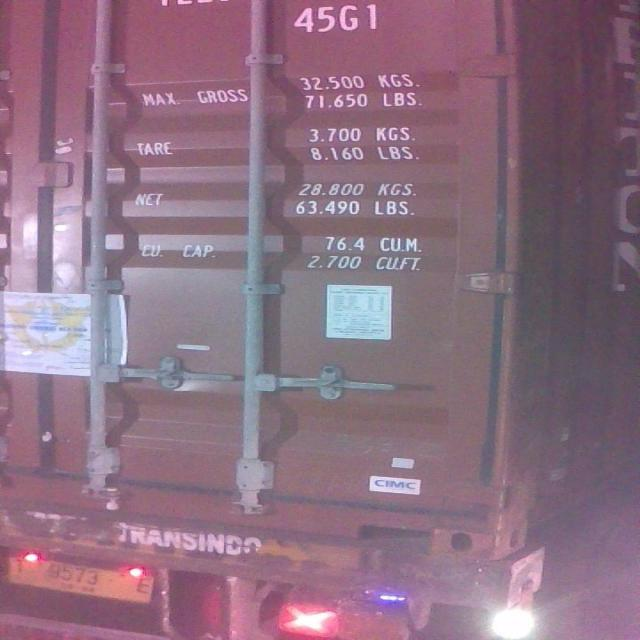seal: (87, 482, 127, 514)
